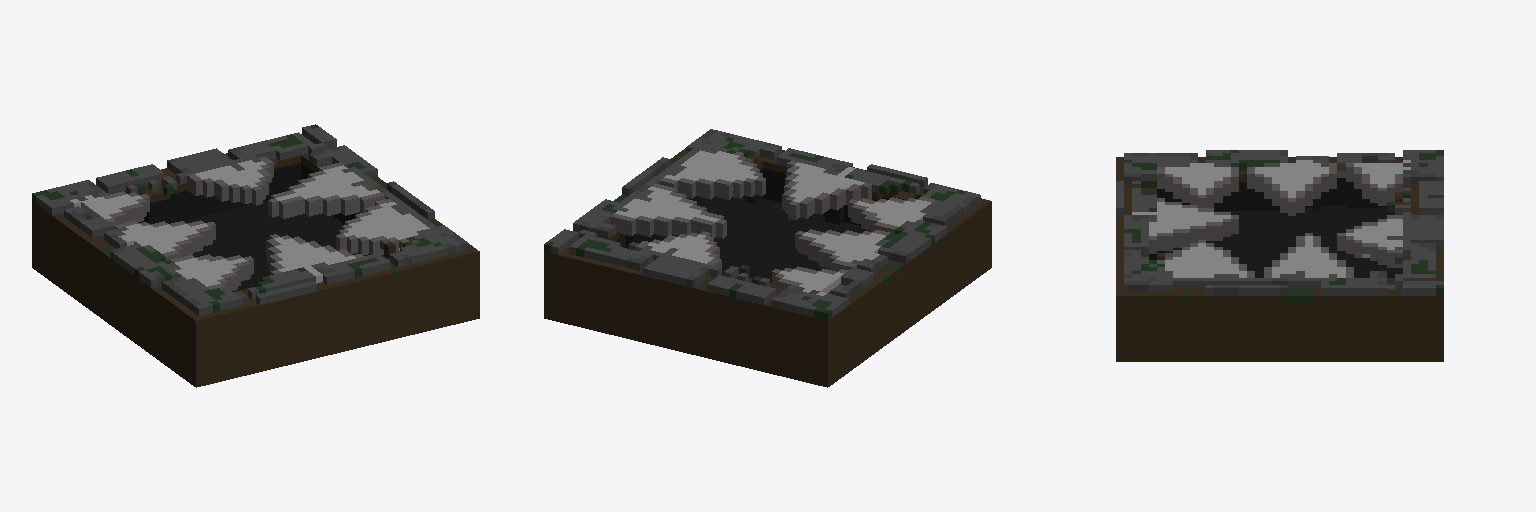
3 renders of one model, left to right at view 1: azimuth 30°, elevation 25°; view 2: azimuth 150°, elevation 25°; view 3: azimuth 270°, elevation 25°, orthographic.
Visible parts, largest first — view 1: object 1; view 2: object 1; view 3: object 1.
Boxes of the visible parts, x1,y1,x2,y2 form: object 1: [32, 124, 479, 387]; object 1: [544, 129, 991, 387]; object 1: [1116, 150, 1443, 361].
Size of the model in its own units: 4 by 1 by 4.
1 materials, 1 textured.